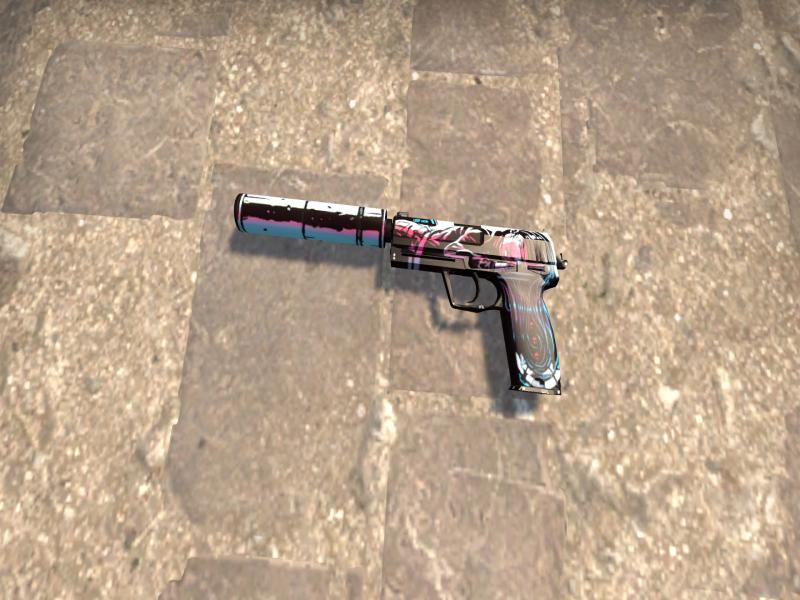USP: (233, 191, 566, 394)
